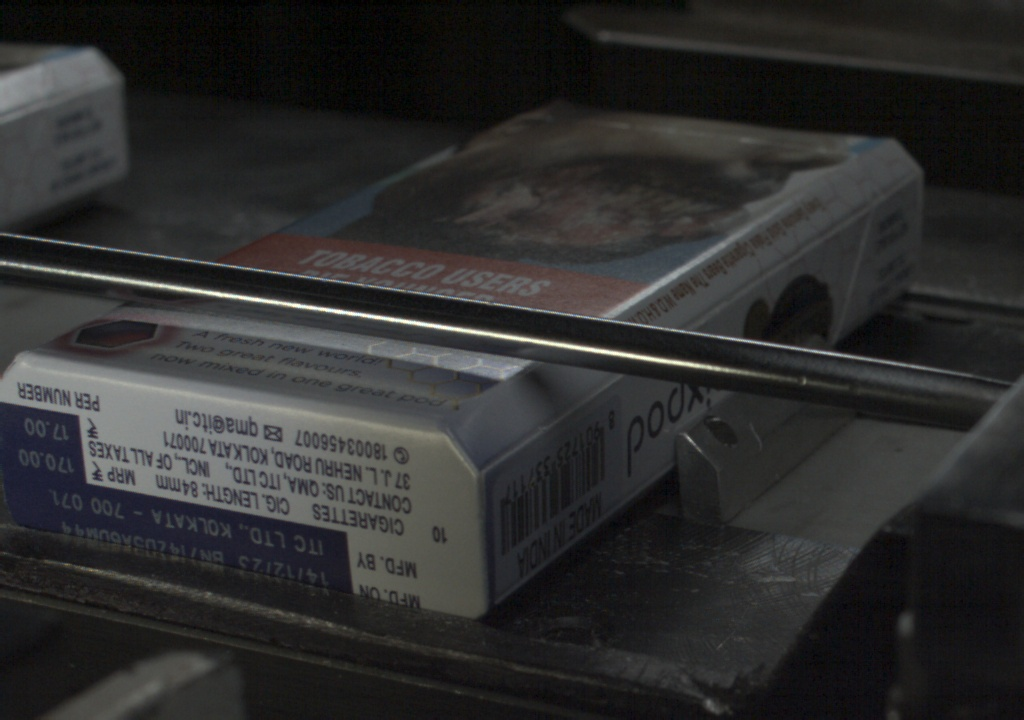g_bottom: (1, 355, 478, 620)
g_label: (17, 487, 357, 593)
g_lmiter: (687, 269, 776, 327), (777, 210, 864, 268), (483, 418, 559, 483), (556, 373, 618, 417)
g_miter: (867, 165, 922, 209)
price: (16, 416, 103, 488)
